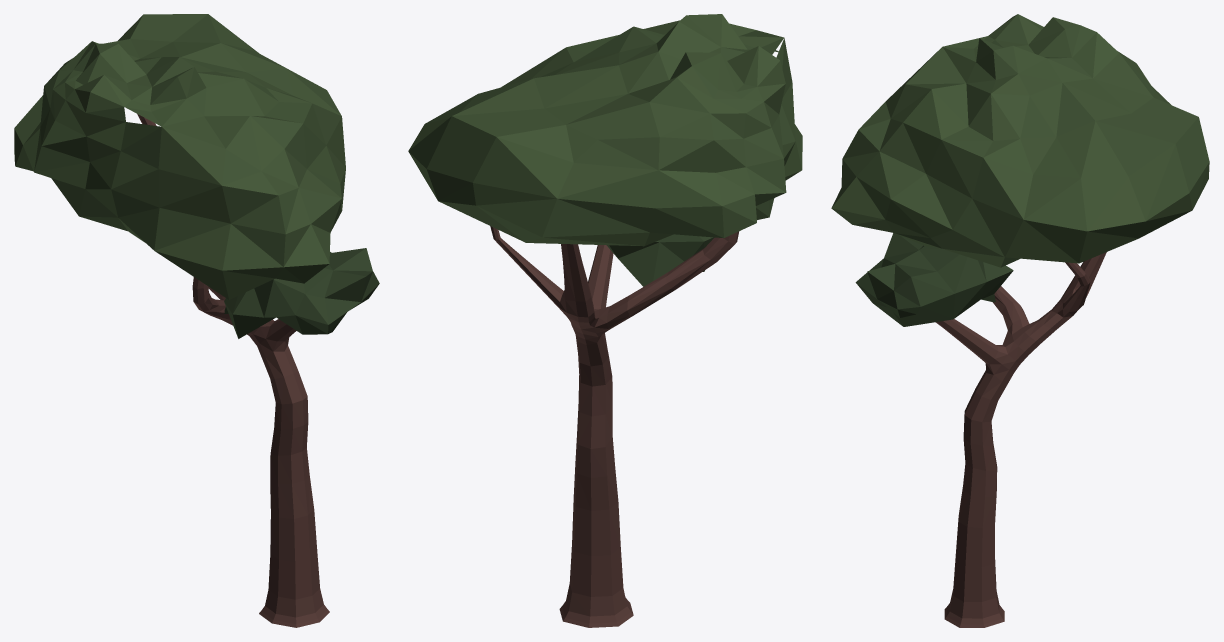
Rendered from CommonTree_4.glb.
The picture shows the model from 3 angles, left to right: view 1: azimuth 30°, elevation 25°; view 2: azimuth 150°, elevation 25°; view 3: azimuth 270°, elevation 25°; orthographic projection. The views are drawn at different scales.
Parts seen in each view (by area): view 1: CommonTree_4; view 2: CommonTree_4; view 3: CommonTree_4.
Part boxes in pixels (left/top/right/bottom): CommonTree_4: left=14, top=14, right=379, bottom=627; CommonTree_4: left=408, top=14, right=802, bottom=627; CommonTree_4: left=831, top=14, right=1209, bottom=627.
Size of the model in its own units: 1.58 by 2.78 by 1.8.
